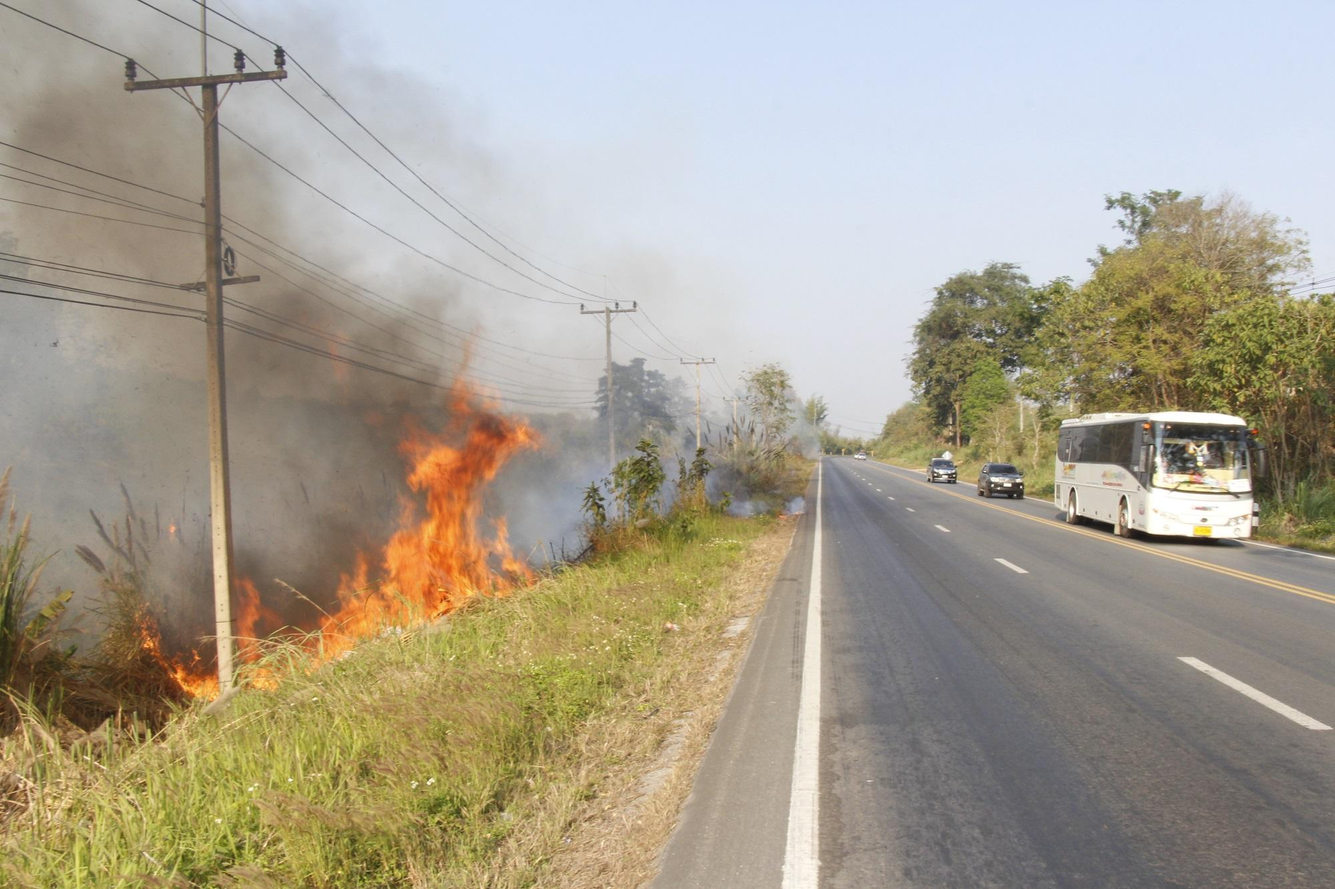fire: (82, 347, 634, 691)
